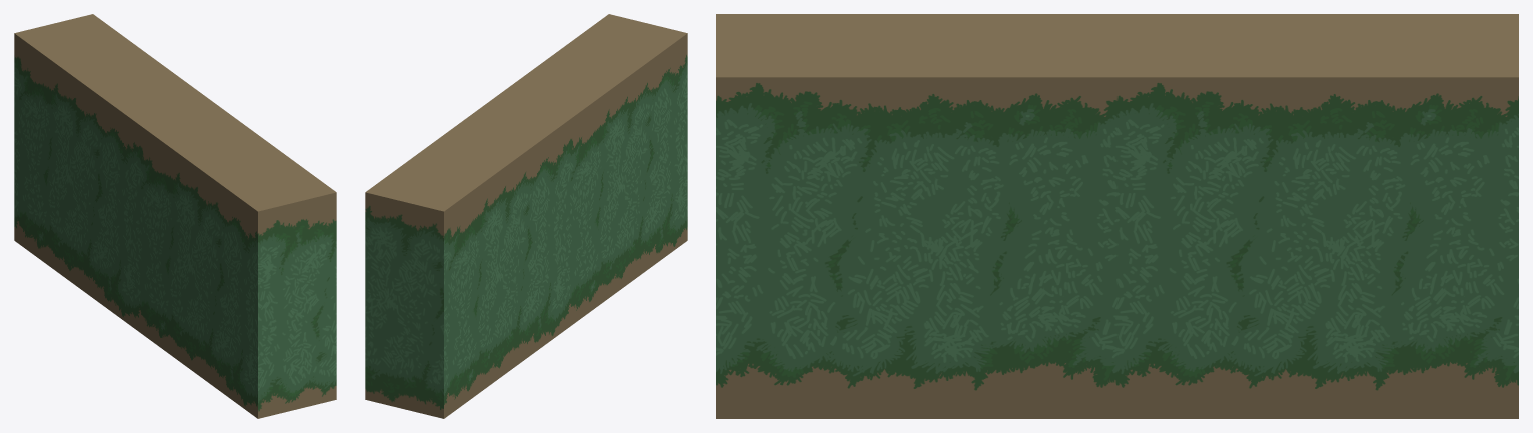
Rendered from Hede_2.fbx.
3 views of the same model, side by side, from view 1: azimuth 30°, elevation 25°; view 2: azimuth 150°, elevation 25°; view 3: azimuth 270°, elevation 25° (orthographic). The views are drawn at different scales.
Parts seen in each view (by area): view 1: Hedge_1; view 2: Hedge_1; view 3: Hedge_1.
Boxes of the visible parts, x1,y1,x2,y2 form: Hedge_1: (14, 14, 336, 418); Hedge_1: (365, 14, 687, 418); Hedge_1: (716, 14, 1518, 418).
Size of the model in its own units: 200 by 503 by 1071.
Materials: 1 (1 with a texture image).
